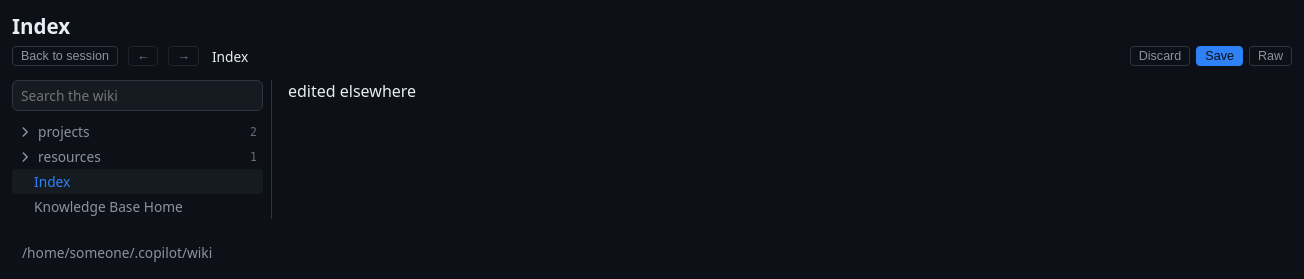
it: showing a page as the file it is › shows what is being edited rather than what is on disk
The image size is (1304, 279).
Click the button "Raw" at {"x": 1270, "y": 56}, box [1249,46,1292,66]
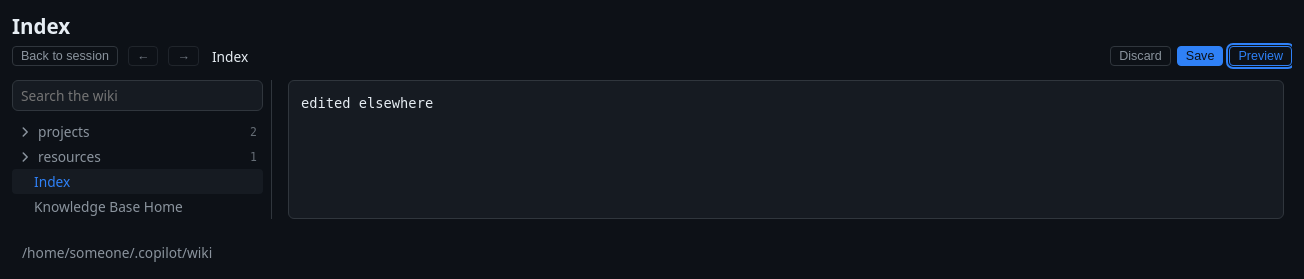
Result: the text box holds "edited elsewhere" at [288,80,1284,219]
